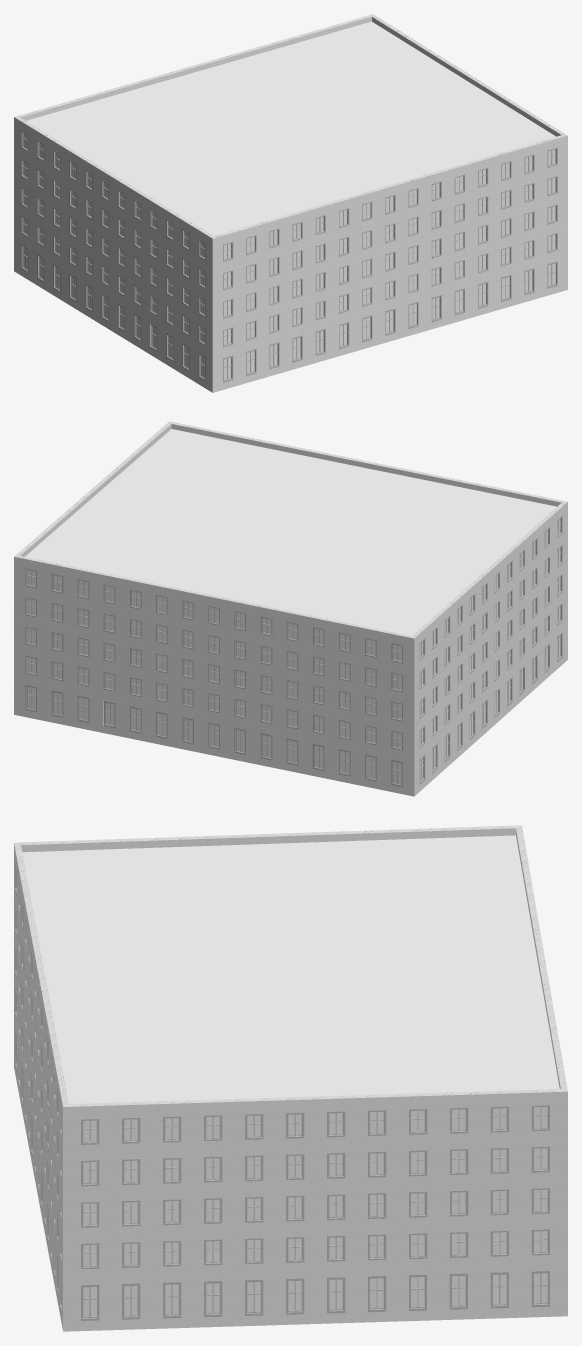
Rendered from clohc5qmf03n54p02lj4dy8na_0.glb.
The picture shows the model from 3 angles, top to bottom: view 1: azimuth 30°, elevation 25°; view 2: azimuth 150°, elevation 25°; view 3: azimuth 270°, elevation 25°; orthographic projection. The views are drawn at different scales.
Visible parts, largest first — view 1: mesh_Brick, mesh_CityEnginePBRShader, mesh_Rim, mesh_Glass; view 2: mesh_Brick, mesh_CityEnginePBRShader, mesh_Rim, mesh_Glass; view 3: mesh_CityEnginePBRShader, mesh_Brick, mesh_Rim, mesh_Glass.
Boxes of the visible parts, x1,y1,x2,y2 form: mesh_Brick: (14, 14, 567, 392); mesh_CityEnginePBRShader: (26, 21, 555, 235); mesh_Rim: (21, 130, 557, 382); mesh_Glass: (23, 133, 555, 379); mesh_Brick: (14, 421, 567, 796); mesh_CityEnginePBRShader: (25, 429, 556, 635); mesh_Rim: (25, 516, 562, 786); mesh_Glass: (27, 519, 560, 783); mesh_CityEnginePBRShader: (22, 835, 559, 1103); mesh_Brick: (14, 825, 567, 1331); mesh_Rim: (15, 864, 549, 1320); mesh_Glass: (83, 1106, 547, 1316).
Size of the model in its own units: 50.81 by 18.89 by 42.22.
Materials: 4 (1 with a texture image).
